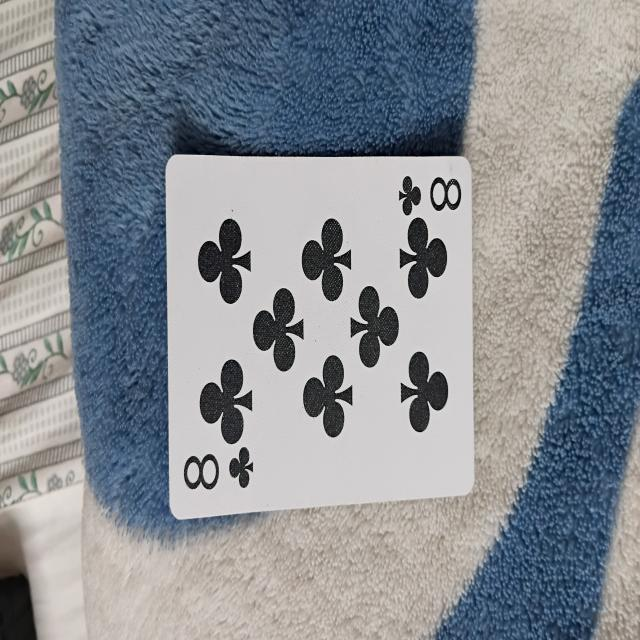8C: (166, 152, 473, 525)
